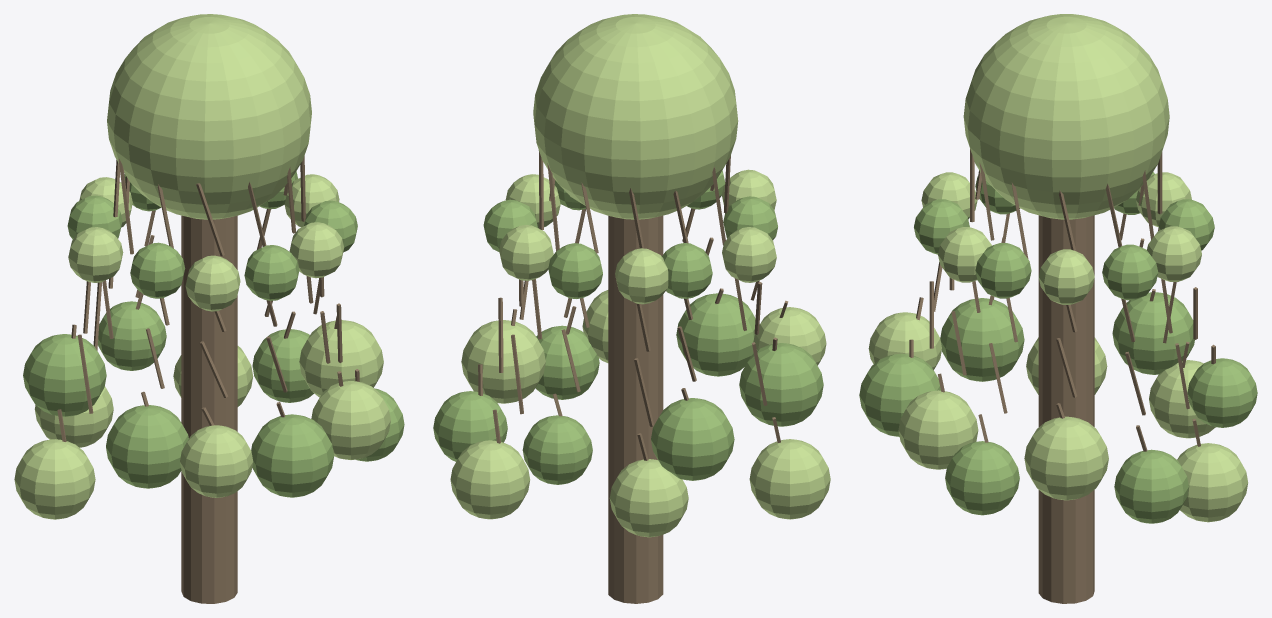
File: weeping_willow.glb
3 renders of one model, left to right at view 1: azimuth 30°, elevation 25°; view 2: azimuth 150°, elevation 25°; view 3: azimuth 270°, elevation 25°, orthographic.
Visible parts, largest first — view 1: weeping_willow; view 2: weeping_willow; view 3: weeping_willow.
Boxes of the visible parts, x1,y1,x2,y2 form: weeping_willow: (14,14,404,603); weeping_willow: (433,14,830,603); weeping_willow: (859,14,1257,603).
Bounding box in the file's own units: 2.21 × 3.35 × 2.13.
